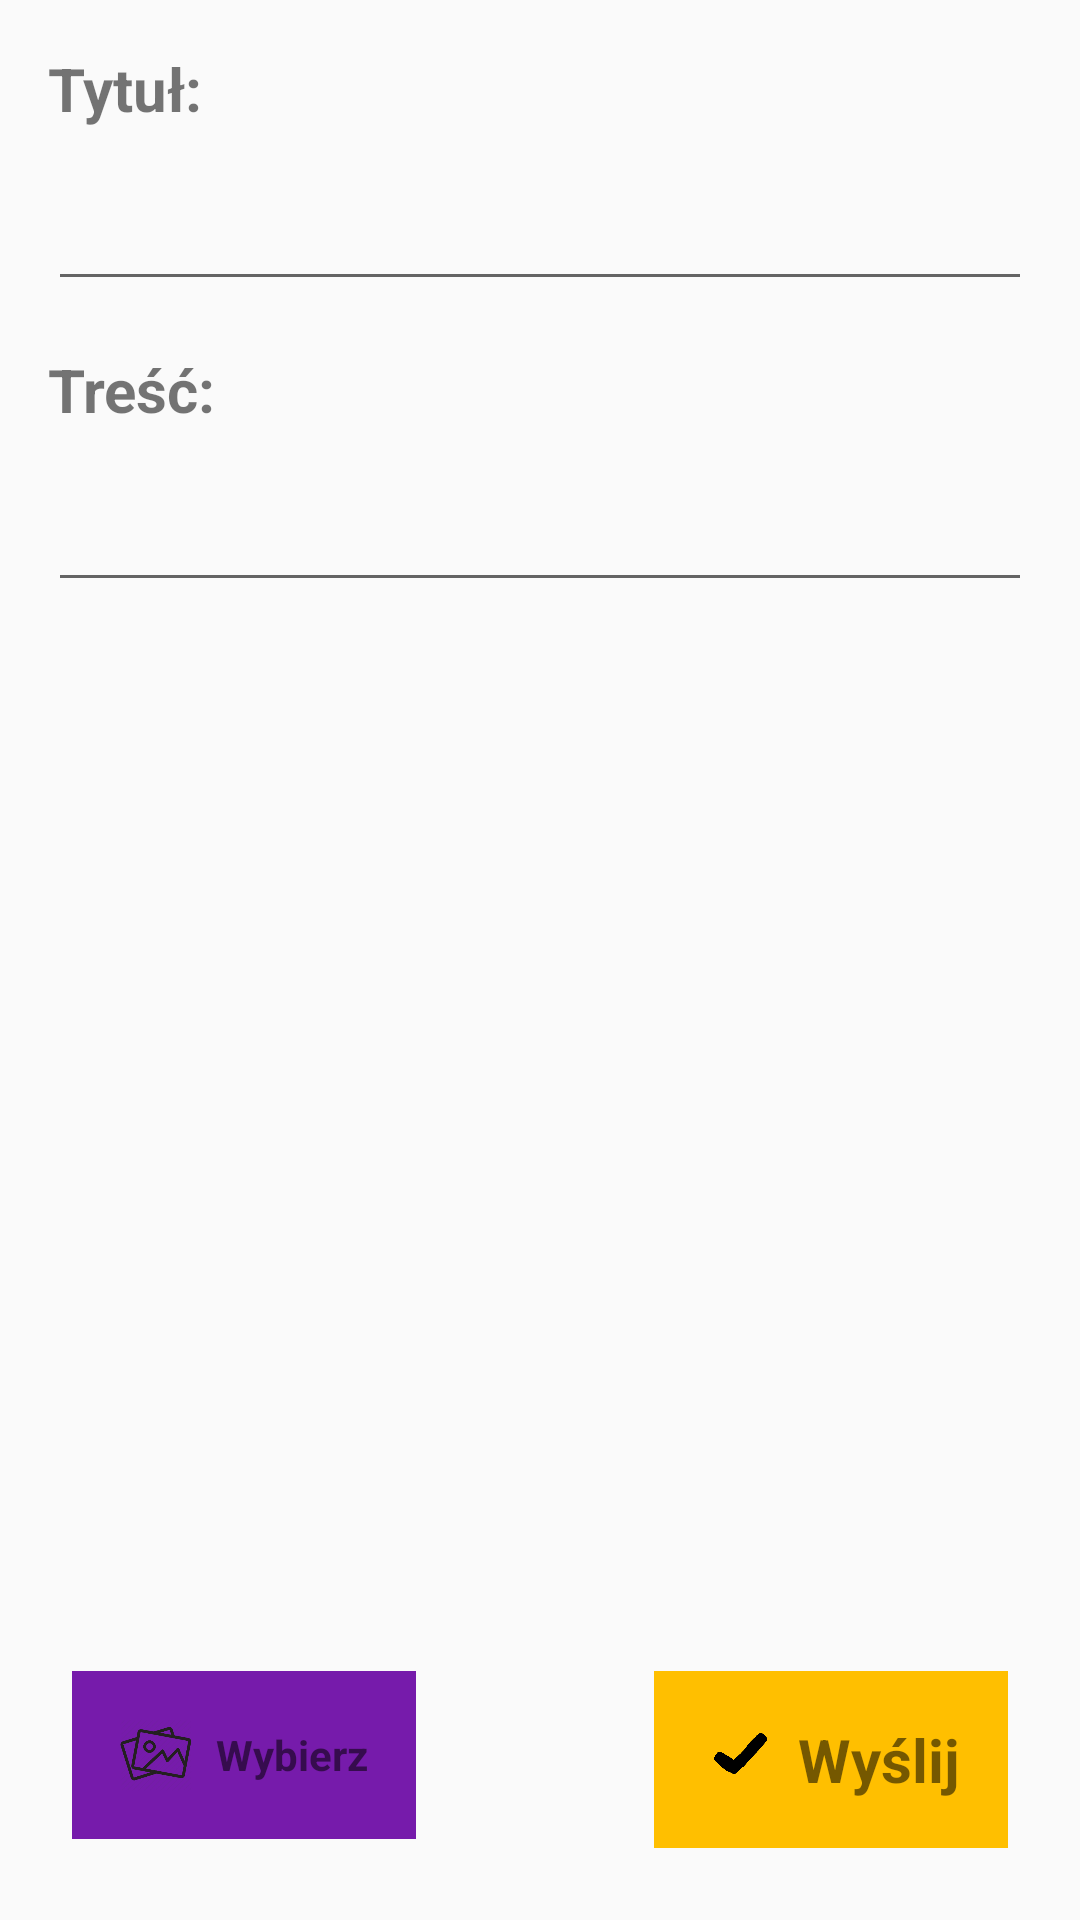

Icon click points for this 1080w x 1920h phone screenshot, format [x,y]:
multimedia: [155,1754]
